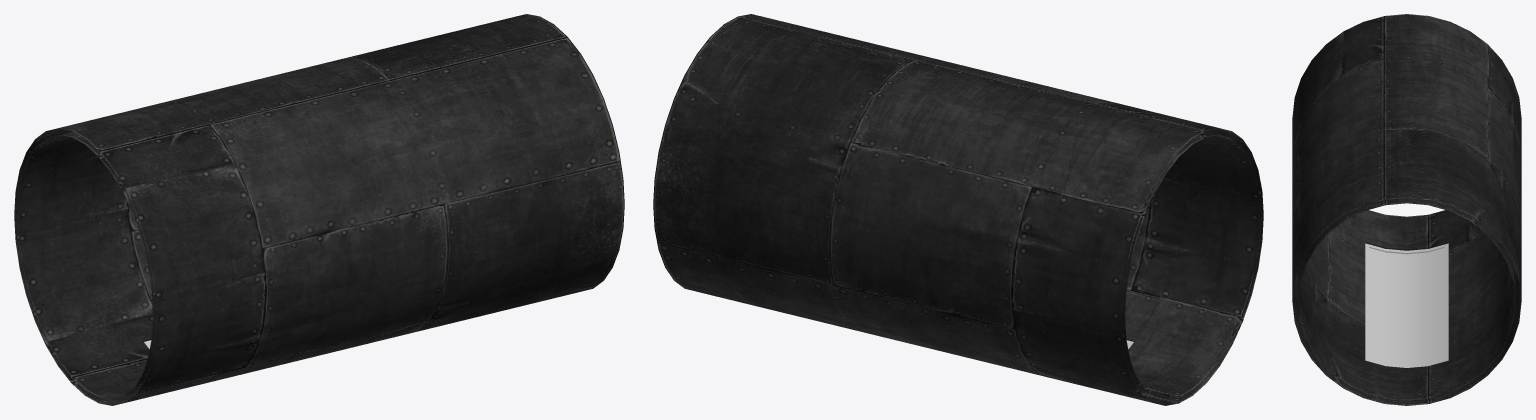
The model's file is engineroom_largepipe_straight_simple.dae.
3 views of the same model, side by side, from view 1: azimuth 30°, elevation 25°; view 2: azimuth 150°, elevation 25°; view 3: azimuth 270°, elevation 25° (orthographic). The views are drawn at different scales.
Visible parts, largest first — view 1: pipe_straight_sheets1; view 2: pipe_straight_sheets1; view 3: pipe_straight_sheets1, pipe_straight_grate, pipe_straight_grateframe.
Boxes of the visible parts, <box> form: pipe_straight_sheets1: <box>14,14,624,405</box>; pipe_straight_sheets1: <box>653,14,1263,405</box>; pipe_straight_sheets1: <box>1292,14,1521,405</box>; pipe_straight_grate: <box>1369,248,1444,366</box>; pipe_straight_grateframe: <box>1365,243,1448,367</box>.
Size of the model in its own units: 600 by 315 by 315.
